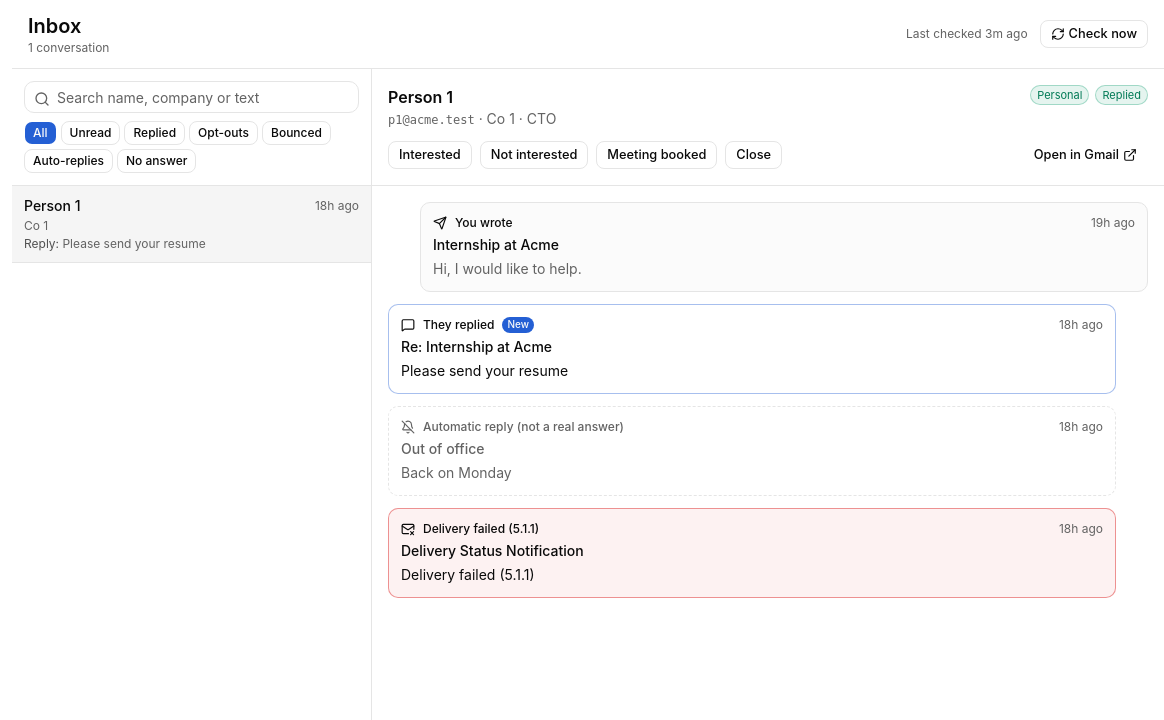
it: InboxPage › shows the reason when the server refuses a status
The width and height of the screenshot is (1164, 720).
Click the button "Interested".
click(430, 155)  # box [388,141,472,169]
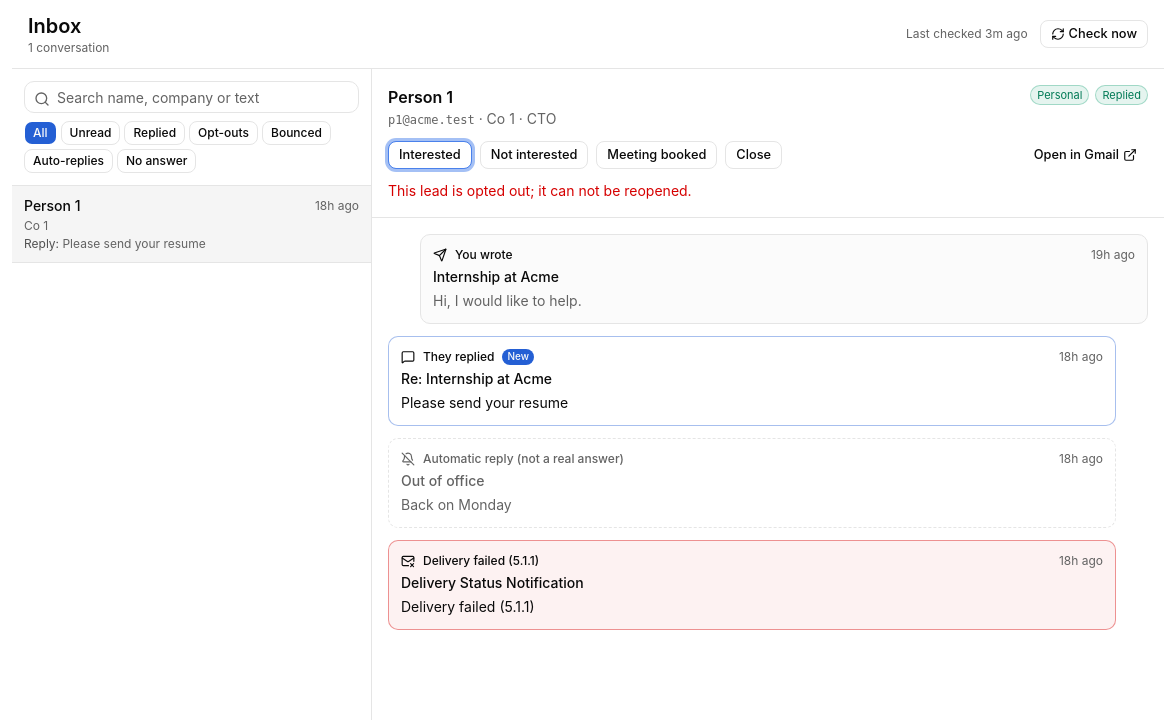
Expected: the text "This lead is opted out; it can not be reopened." is shown, [388,182,692,199]
